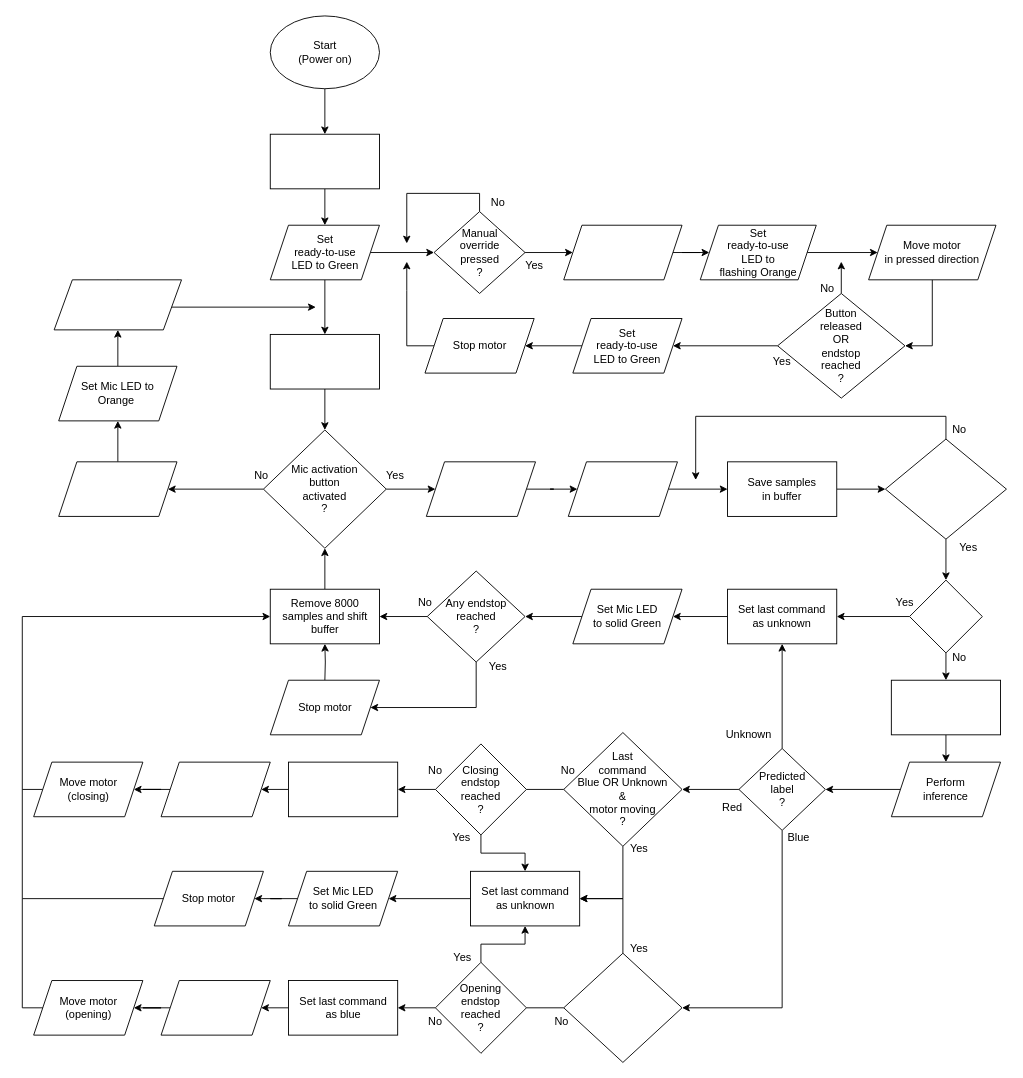
This 1023x1078 diagram has some shape labels left out. The shapes that lost their labels are listed below. From the top down, each one's centre as x and y in pixels, then its label:
pixel 324 161: Boot controller and start script
pixel 622 252: Disable activation button
pixel 117 304: Stop mic recording and clear buffer
pixel 324 361: Sleep/standy-by mode
pixel 117 488: Stop motor and set H-bridge to standby
pixel 480 488: Set Mic LED to flashing Green
pixel 622 488: Start mic recording
pixel 945 488: buffer full (>= 16000 samples) ?
pixel 945 616: Silence ?
pixel 945 707: Calculate spectrogram
pixel 215 789: Set Mic LED to Red
pixel 343 789: Set last command as red
pixel 215 1007: Set Mic LED to Blue
pixel 622 1007: Last command Red OR Unknown & motor moving ?
